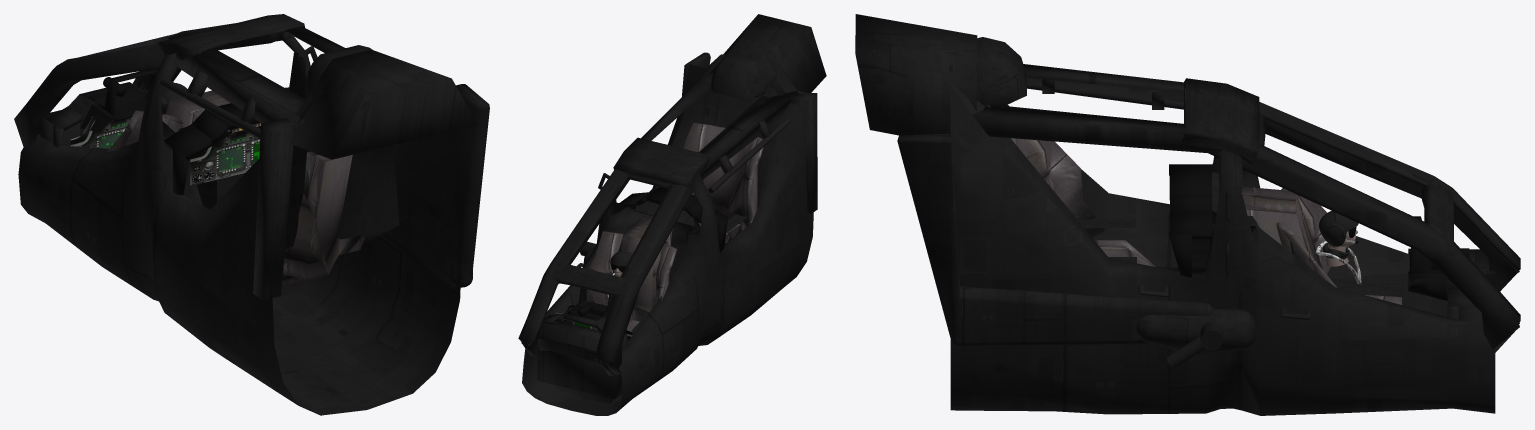
File: apache-cockpit.FBX
3 views of the same model, side by side, from view 1: azimuth 30°, elevation 25°; view 2: azimuth 150°, elevation 25°; view 3: azimuth 270°, elevation 25° (orthographic). The views are drawn at different scales.
Visible parts, largest first — view 1: Cockpit, Box54, ChamferBox17, Box52, Box194, Box08, Box112, Box06, Screens, Box29, Screens2, Box02 (+12 smaller); view 2: Cockpit, Box54, Box08, Box173, Box02, Box52, Box06, Box112, OilTank07, Box53, Box194, Box170 (+7 smaller); view 3: Cockpit, ChamferBox17, Box54, Box02, Box08, Box01, Box06, Capsule01, Box112, Box52, OilTank07, Box170 (+12 smaller).
Boxes of the visible parts, <box> form: Cockpit: <box>18,34,461,415</box>; Box54: <box>290,49,477,159</box>; ChamferBox17: <box>379,84,489,288</box>; Box52: <box>283,151,364,279</box>; Box194: <box>253,118,294,299</box>; Box08: <box>14,44,164,147</box>; Box112: <box>176,48,305,131</box>; Box06: <box>158,14,304,60</box>; Screens: <box>190,122,260,185</box>; Box29: <box>88,69,157,120</box>; Screens2: <box>70,115,131,148</box>; Box02: <box>132,23,291,88</box>; Cockpit: <box>522,54,814,415</box>; Box54: <box>709,14,826,96</box>; Box08: <box>594,184,692,376</box>; Box173: <box>537,321,623,399</box>; Box02: <box>518,169,629,357</box>; Box52: <box>683,122,763,230</box>; Box06: <box>613,137,710,188</box>; Box112: <box>699,90,799,179</box>; OilTank07: <box>711,55,767,98</box>; Box53: <box>588,231,677,304</box>; Box194: <box>789,93,817,213</box>; Box170: <box>603,215,673,321</box>; Cockpit: <box>950,81,1495,415</box>; ChamferBox17: <box>897,133,1213,346</box>; Box54: <box>855,14,977,135</box>; Box02: <box>1209,144,1520,352</box>; Box08: <box>1259,102,1520,291</box>; Box01: <box>972,106,1219,153</box>; Box06: <box>1181,78,1265,164</box>; Capsule01: <box>1136,308,1255,354</box>; Box112: <box>1023,64,1183,102</box>; Box52: <box>1010,138,1105,237</box>; OilTank07: <box>975,37,1026,106</box>; Box170: <box>1241,186,1322,269</box>.
Bounding box in the file's own units: 118 × 300 × 179.
25 materials, 20 textured.
